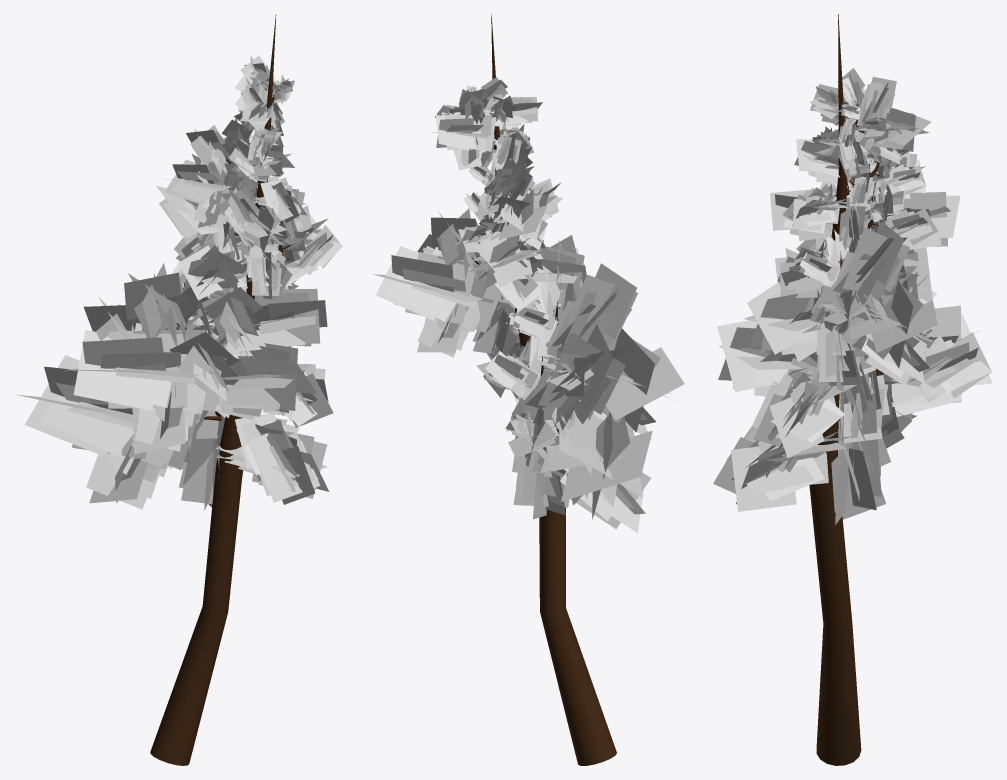
Rendered from MESHKokiDazhadiarGeoTEST.fbx.
3 views of the same model, side by side, from view 1: azimuth 30°, elevation 25°; view 2: azimuth 150°, elevation 25°; view 3: azimuth 270°, elevation 25° (orthographic). The views are drawn at different scales.
Parts seen in each view (by area): view 1: Koks2.006; view 2: Koks2.006; view 3: Koks2.006.
Boxes of the visible parts, left/top/right/bottom form: Koks2.006: left=16, top=14, right=342, bottom=765; Koks2.006: left=373, top=14, right=684, bottom=765; Koks2.006: left=713, top=14, right=992, bottom=765.
Size of the model in its own units: 29.45 by 71.55 by 22.69.
